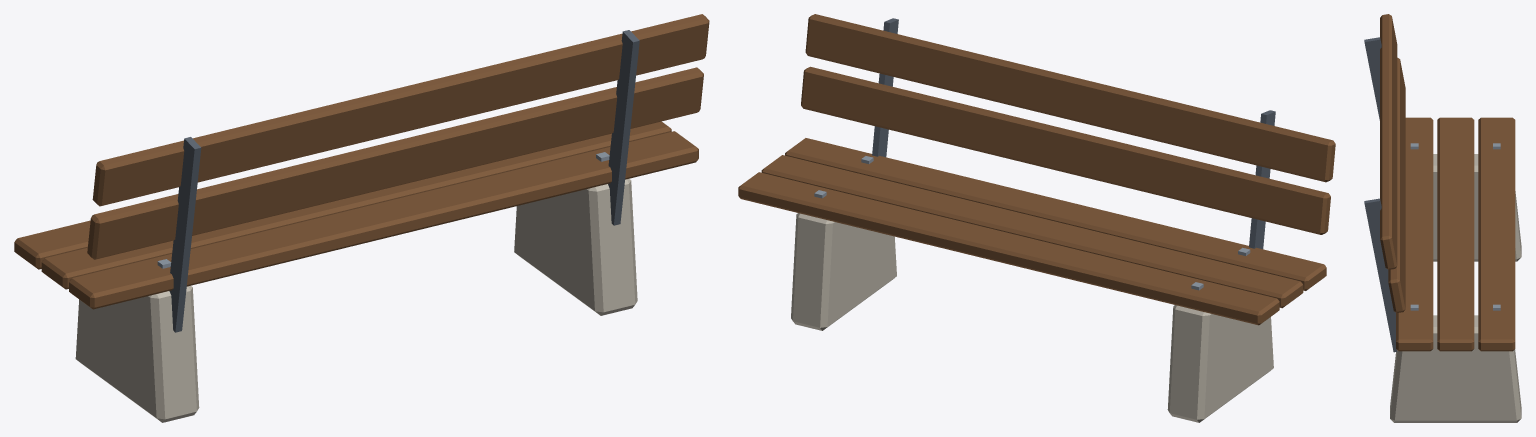
The model's file is bench_park.glb.
The picture shows the model from 3 angles, left to right: view 1: azimuth 30°, elevation 25°; view 2: azimuth 150°, elevation 25°; view 3: azimuth 270°, elevation 25°; orthographic projection. The views are drawn at different scales.
Visible parts, largest first — view 1: bench_park; view 2: bench_park; view 3: bench_park.
Boxes of the visible parts, left/top/right/bottom form: bench_park: left=14, top=14, right=709, bottom=422; bench_park: left=738, top=14, right=1335, bottom=422; bench_park: left=1364, top=14, right=1521, bottom=422.
Size of the model in its own units: 2 by 0.9052 by 0.5927.
